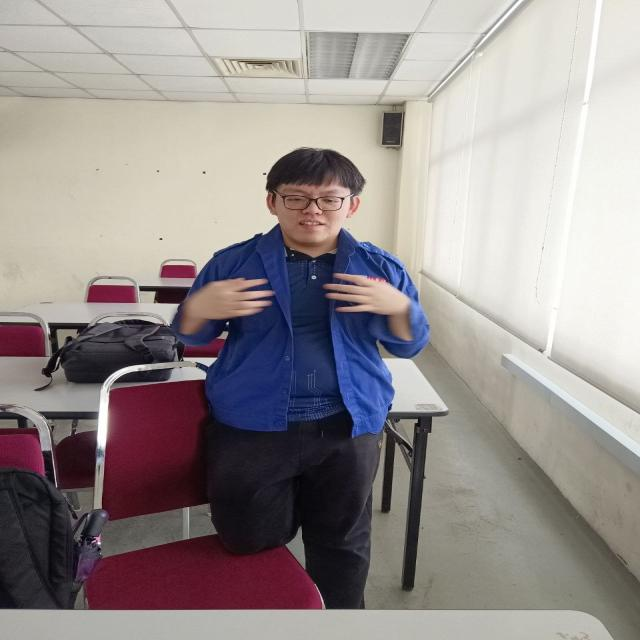person_with_labcoat: (173, 148, 429, 608)
